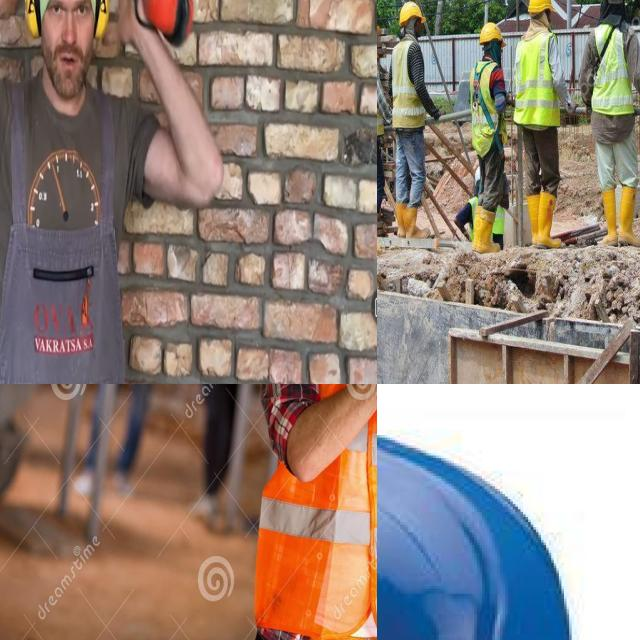Ear-protection: (20, 0, 118, 107), (127, 0, 191, 52)
No_Glasses: (46, 0, 88, 24)
boots: (537, 190, 564, 252), (474, 204, 503, 257), (616, 188, 640, 250), (596, 186, 620, 247), (401, 200, 434, 240)
head_helmet: (377, 419, 633, 640), (400, 3, 424, 26), (480, 25, 503, 45), (526, 0, 552, 13)
person: (0, 0, 224, 384), (266, 384, 377, 631), (517, 0, 567, 246), (595, 0, 640, 245), (396, 2, 432, 240), (470, 29, 502, 254)
vest: (279, 384, 377, 627), (518, 35, 564, 123), (596, 30, 634, 114), (393, 44, 426, 125), (475, 62, 498, 147)
